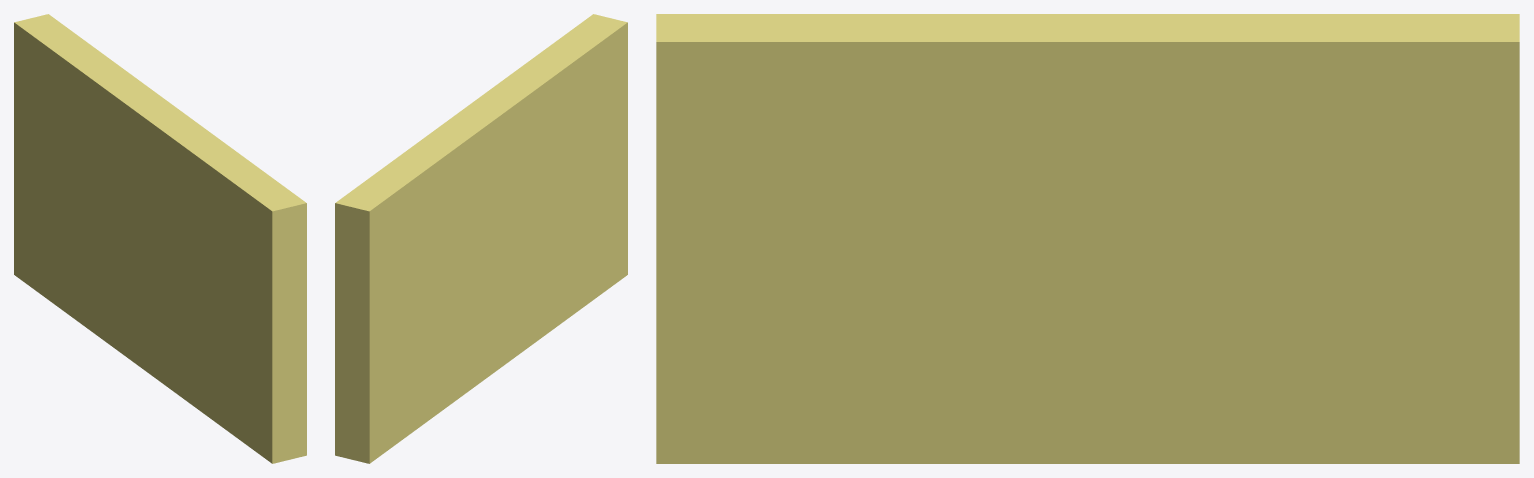
File: original-21.obj
The picture shows the model from 3 angles, left to right: view 1: azimuth 30°, elevation 25°; view 2: azimuth 150°, elevation 25°; view 3: azimuth 270°, elevation 25°; orthographic projection. The views are drawn at different scales.
Parts seen in each view (by area): view 1: side_apron_1_1/side_apron_1/side_apron1/side_apron/mesh14/mesh14; view 2: side_apron_1_1/side_apron_1/side_apron1/side_apron/mesh14/mesh14; view 3: side_apron_1_1/side_apron_1/side_apron1/side_apron/mesh14/mesh14.
Part boxes in pixels (left/top/right/bottom): side_apron_1_1/side_apron_1/side_apron1/side_apron/mesh14/mesh14: left=14, top=14, right=306, bottom=463; side_apron_1_1/side_apron_1/side_apron1/side_apron/mesh14/mesh14: left=335, top=14, right=627, bottom=463; side_apron_1_1/side_apron_1/side_apron1/side_apron/mesh14/mesh14: left=656, top=14, right=1519, bottom=463.
Size of the model in its own units: 0.0468 by 0.3284 by 0.6089.
